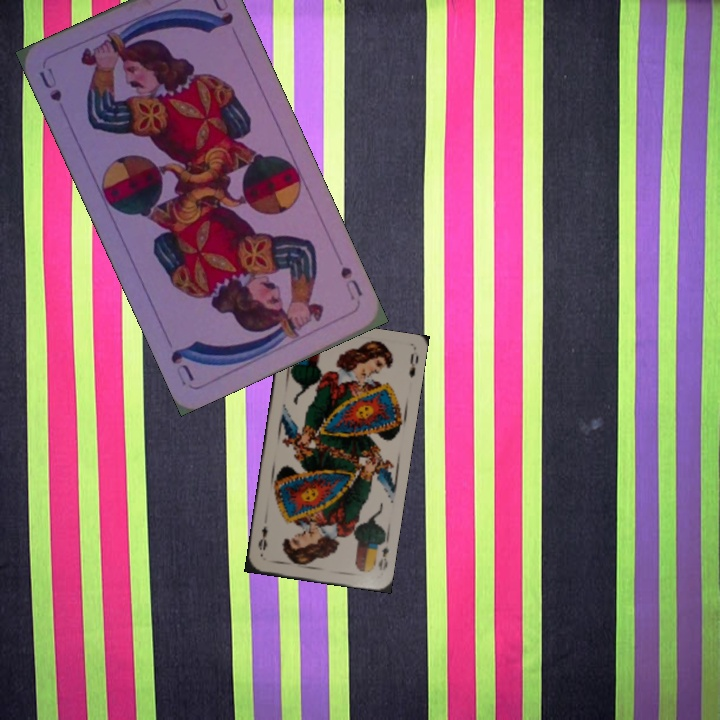EO: (370, 535, 391, 573)
SU: (35, 63, 65, 105), (336, 262, 365, 303)
